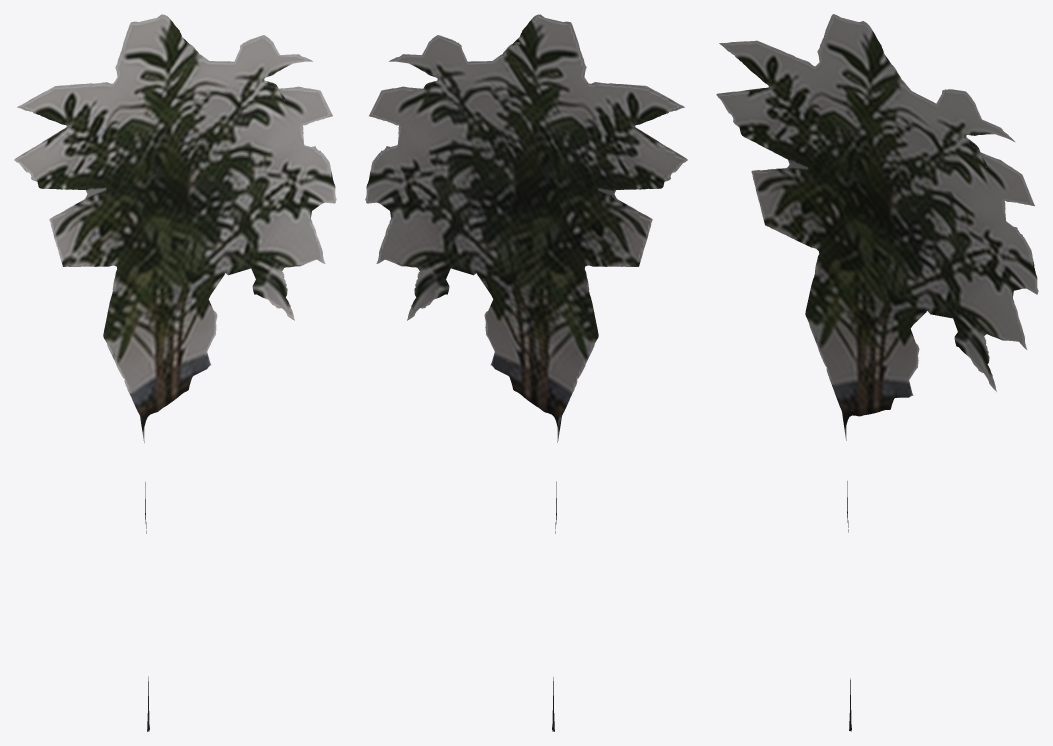
File: salon-plant.glb
3 views of the same model, side by side, from view 1: azimuth 30°, elevation 25°; view 2: azimuth 150°, elevation 25°; view 3: azimuth 330°, elevation 25° (orthographic).
Parts seen in each view (by area): view 1: Mesh_0; view 2: Mesh_0; view 3: Mesh_0.
Boxes of the visible parts, x1,y1,x2,y2 form: Mesh_0: (14,14,336,731); Mesh_0: (365,14,687,731); Mesh_0: (716,14,1038,731).
Size of the model in its own units: 0.8934 by 1.89 by 0.000682.
Materials: 1 (1 with a texture image).
